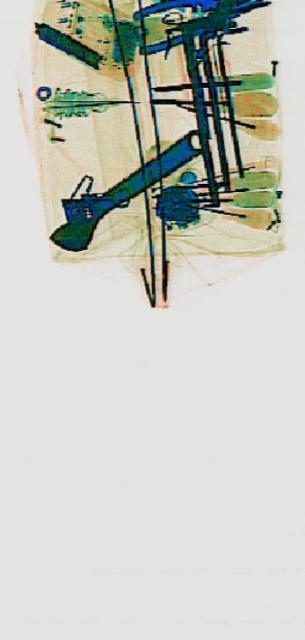Pliers: (132, 0, 267, 58)
Wrench: (43, 105, 206, 267)
